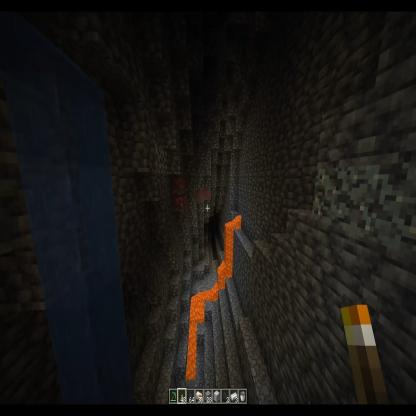redstone ore: (173, 194, 187, 214), (172, 177, 186, 195), (196, 190, 204, 203), (203, 188, 211, 200)
